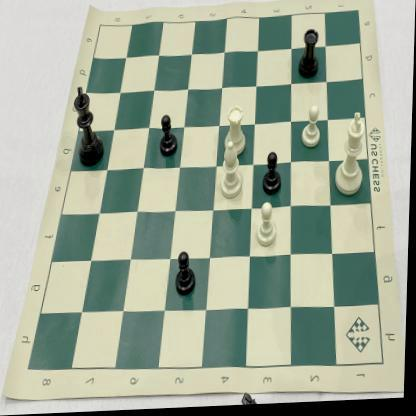black-king: (71, 83, 110, 169)
black-pawn: (174, 247, 200, 300), (158, 110, 180, 162), (262, 150, 285, 198)
black-rook: (296, 27, 323, 85)
white-bishop: (218, 140, 248, 204)
white-king: (332, 110, 370, 203)
white-pawn: (255, 200, 283, 254), (300, 104, 324, 153)
white-rook: (223, 103, 250, 162)
